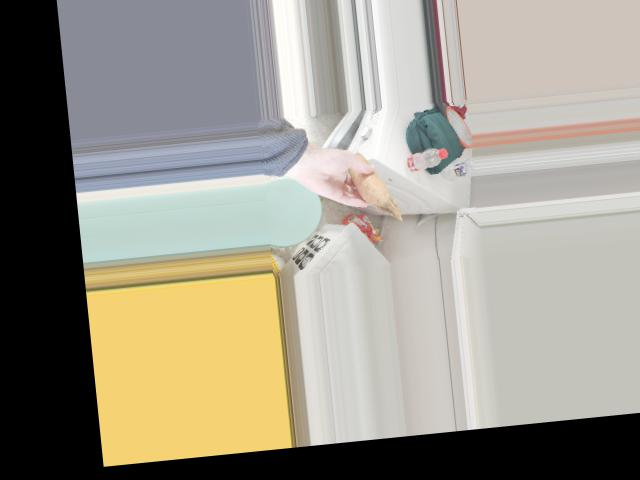sweet_potato: (341, 156, 391, 207)
